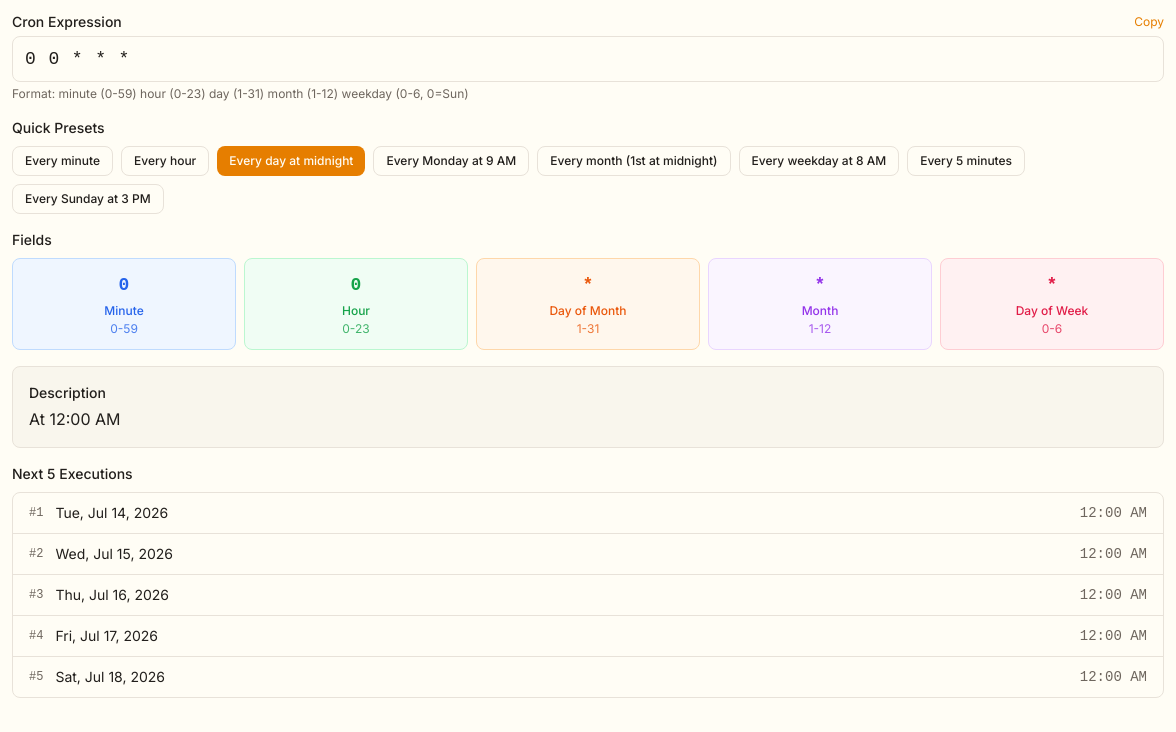
Test case: CronParser › shows error for invalid field values
Step 1. Replace the text in the field named "Cron expression input" with "99 * * * *" → (588, 59), box [12, 36, 1164, 82]
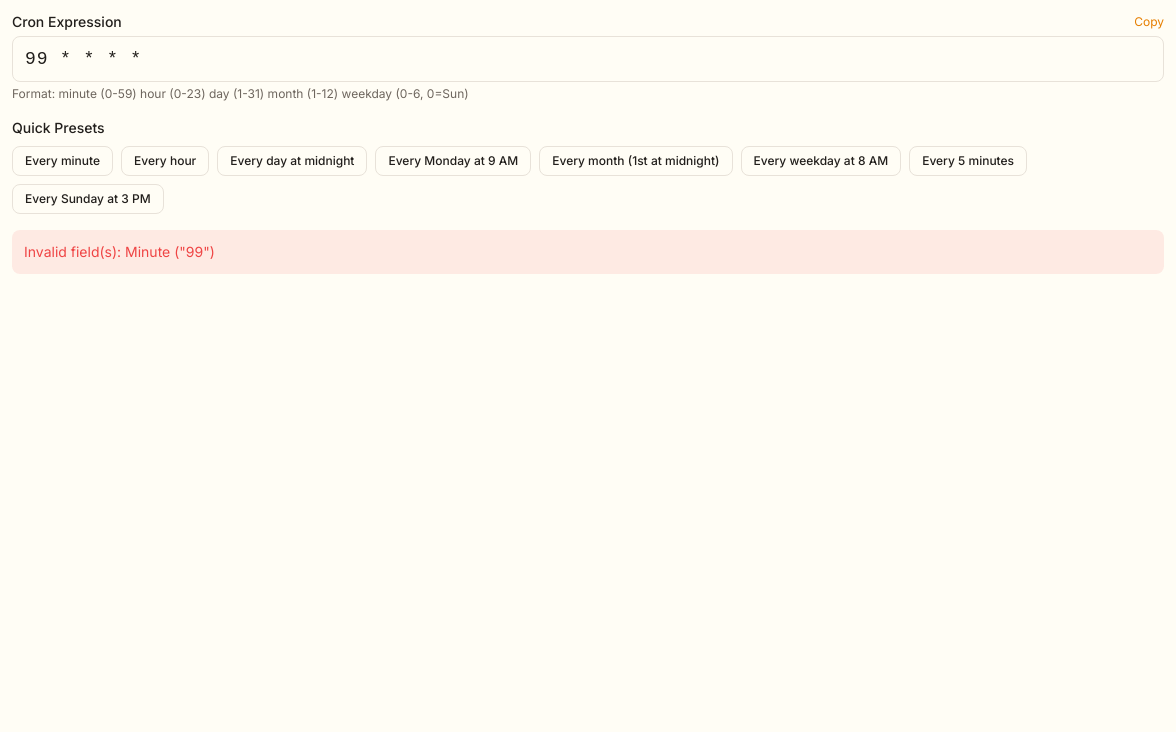
Check: the text "Invalid field(s): Minute (\"99\")" is shown, box [12, 230, 1164, 274]
